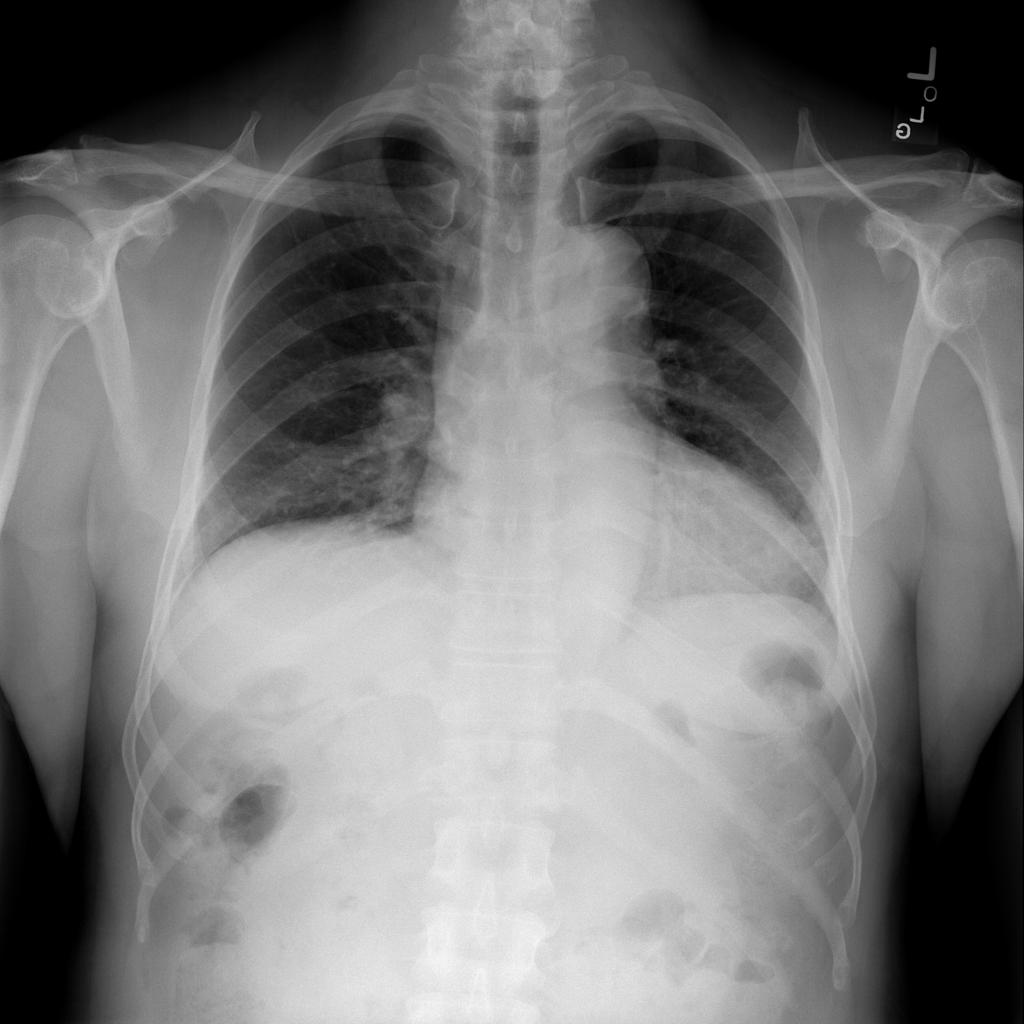Cardiomegaly: (390, 313, 845, 673)
